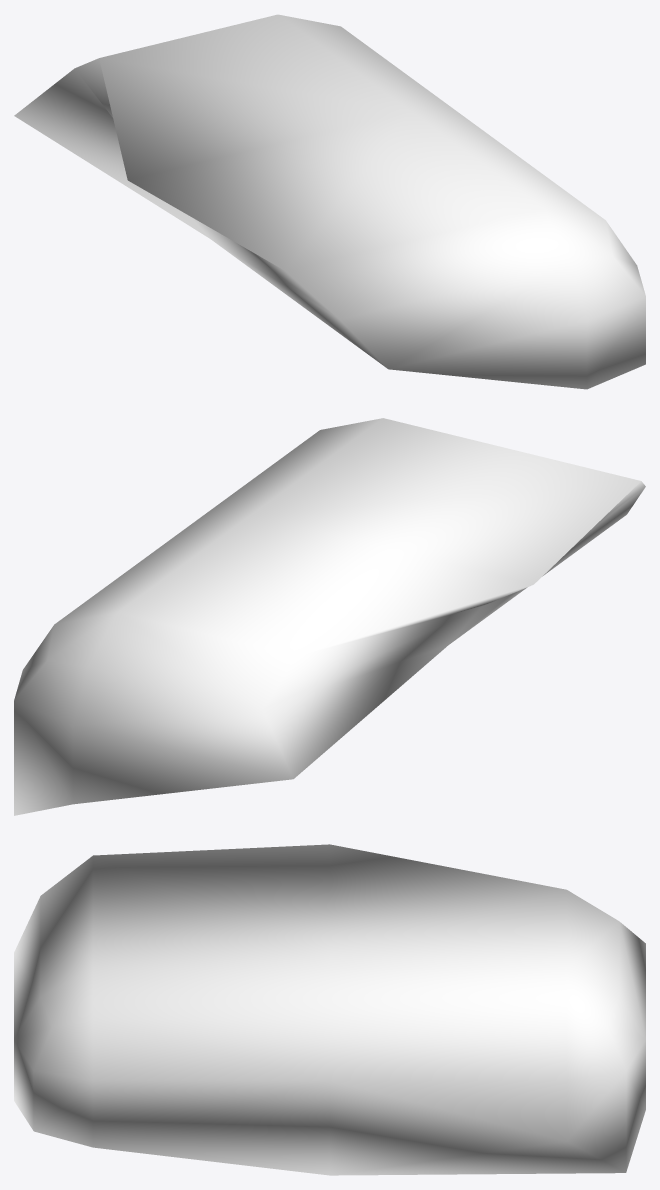
Rendered from WhiteBrickBreak4.obj.
The picture shows the model from 3 angles, top to bottom: view 1: azimuth 30°, elevation 25°; view 2: azimuth 150°, elevation 25°; view 3: azimuth 270°, elevation 25°; orthographic projection. The views are drawn at different scales.
Parts seen in each view (by area): view 1: OriginalBrick.008_Cube.013; view 2: OriginalBrick.008_Cube.013; view 3: OriginalBrick.008_Cube.013.
Boxes of the visible parts, bbox=[...] form: OriginalBrick.008_Cube.013: bbox=[14, 14, 645, 389]; OriginalBrick.008_Cube.013: bbox=[14, 418, 645, 815]; OriginalBrick.008_Cube.013: bbox=[14, 844, 645, 1175].
Bounding box in the file's own units: 0.2659 × 0.1317 × 0.4316.
Materials: 2 (2 with a texture image).
